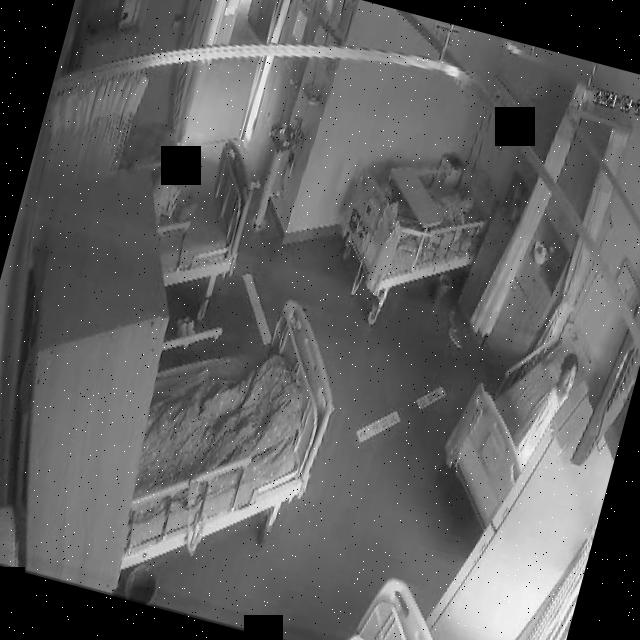bed: (114, 272, 357, 575), (308, 118, 506, 340), (426, 318, 592, 546), (130, 123, 266, 303)
patient: (504, 338, 588, 482)
stand: (504, 338, 588, 483)
